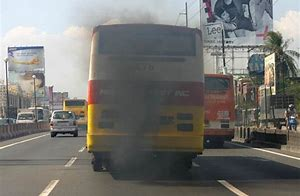smoke: (85, 9, 185, 179)
